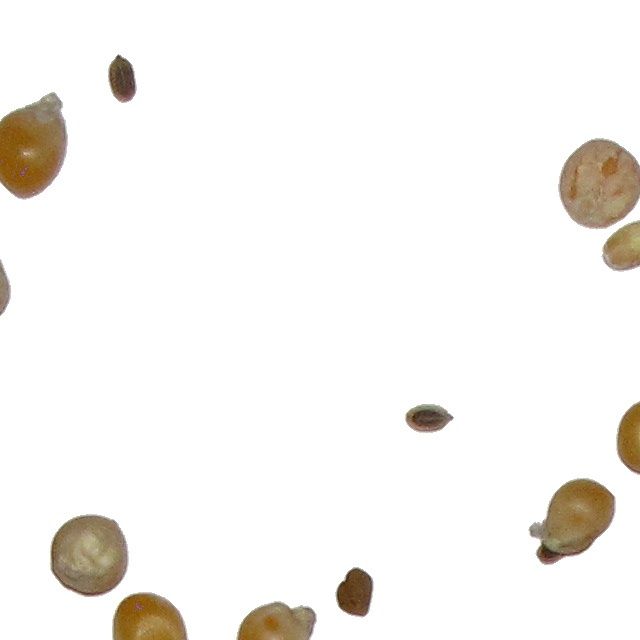buckwheat: (334, 566, 375, 619), (107, 53, 138, 104), (404, 403, 455, 434)
mais: (527, 477, 617, 566), (557, 137, 639, 228), (49, 513, 130, 598), (111, 591, 191, 640), (235, 600, 318, 640), (615, 397, 640, 477)
other: (600, 217, 640, 273)
